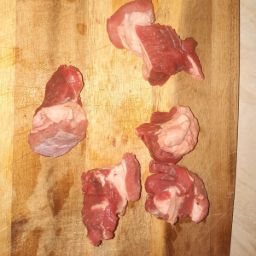Chicken Strips: (18, 3, 218, 253), (99, 1, 224, 88), (15, 48, 94, 170), (74, 152, 146, 256), (142, 154, 214, 241), (120, 97, 202, 161)
